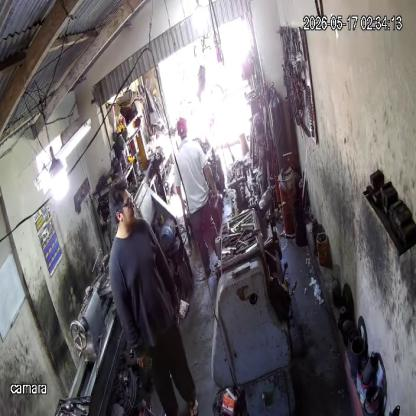lentes: (119, 192, 135, 213)
